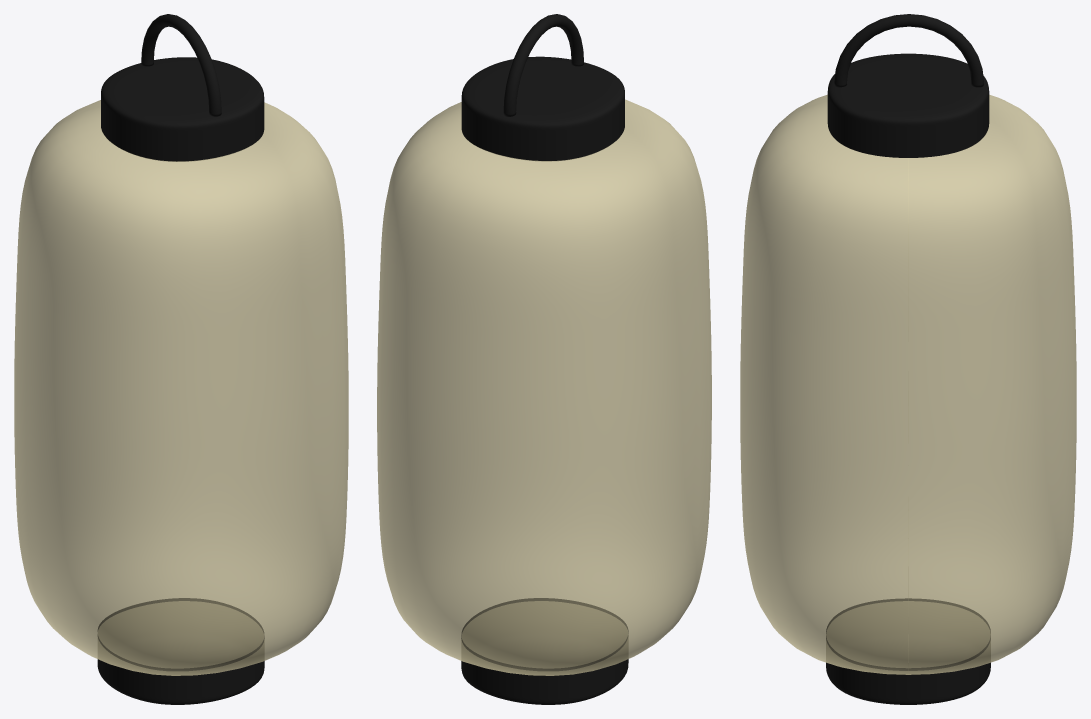
File: Stringlightsround.fbx
3 renders of one model, left to right at view 1: azimuth 30°, elevation 25°; view 2: azimuth 150°, elevation 25°; view 3: azimuth 270°, elevation 25°, orthographic.
Parts seen in each view (by area): view 1: Paper lantern, nubs idk.boven, nubs idk.onder, Torus.001; view 2: Paper lantern, nubs idk.boven, nubs idk.onder, Torus.001; view 3: Paper lantern, nubs idk.boven, nubs idk.onder, Torus.001.
Part boxes in pixels (left/top/right/bottom): Paper lantern: left=14, top=100, right=348, bottom=675; nubs idk.boven: left=101, top=57, right=264, bottom=161; nubs idk.onder: left=97, top=598, right=264, bottom=704; Torus.001: left=141, top=14, right=221, bottom=116; Paper lantern: left=377, top=99, right=711, bottom=675; nubs idk.boven: left=461, top=56, right=624, bottom=161; nubs idk.onder: left=461, top=598, right=628, bottom=704; Torus.001: left=503, top=14, right=583, bottom=116; Paper lantern: left=740, top=94, right=1076, bottom=674; nubs idk.boven: left=827, top=53, right=989, bottom=157; nubs idk.onder: left=826, top=598, right=990, bottom=704; Torus.001: left=834, top=14, right=983, bottom=87.
Size of the model in its own units: 198 by 439 by 202.
